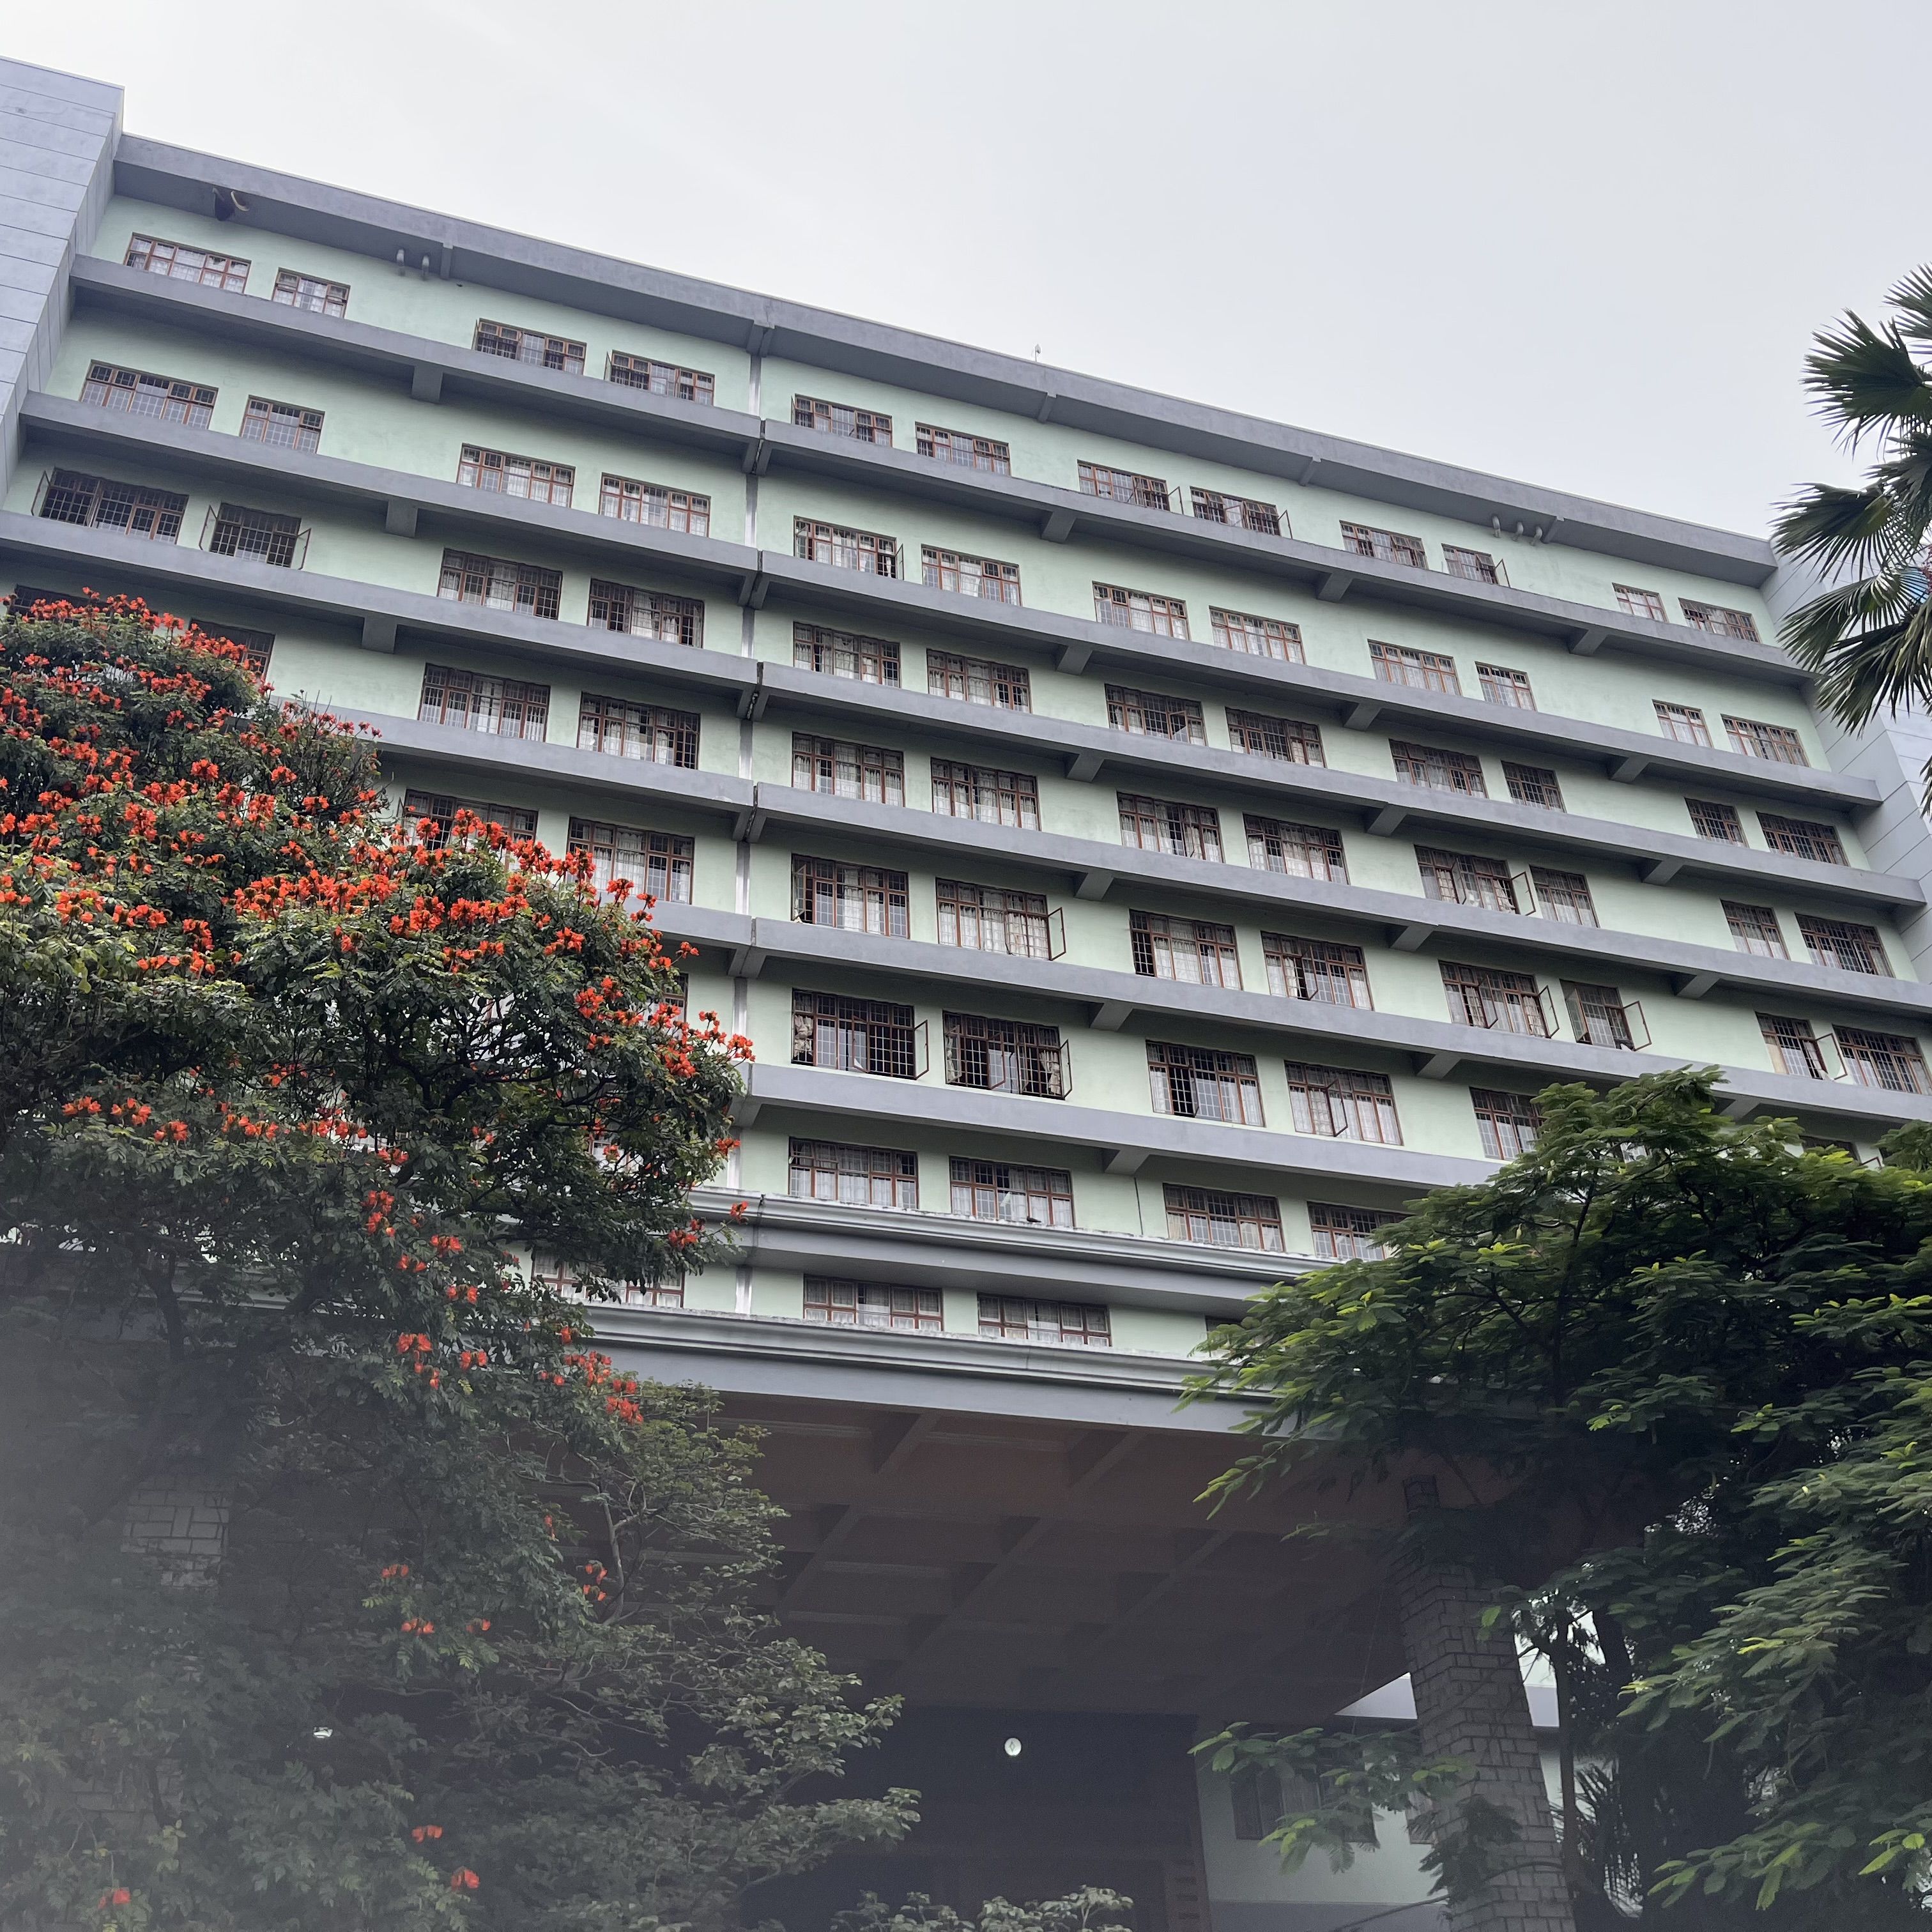Central Block: (7, 42, 1932, 1824)
